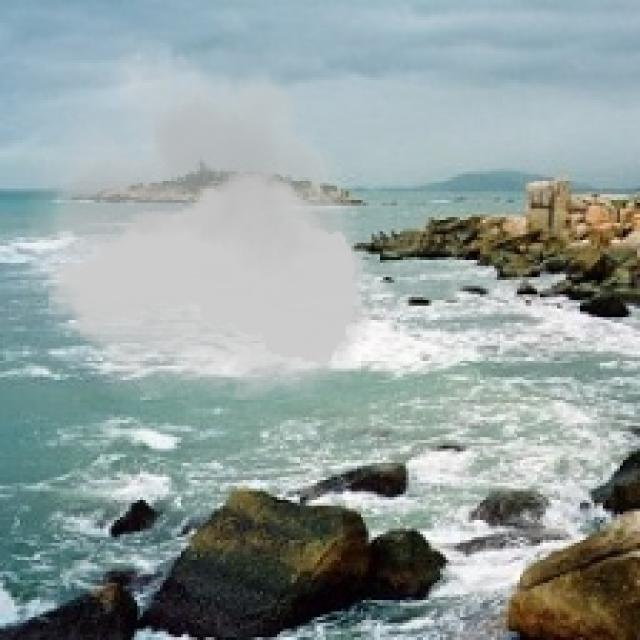smoke: (26, 29, 383, 432)
